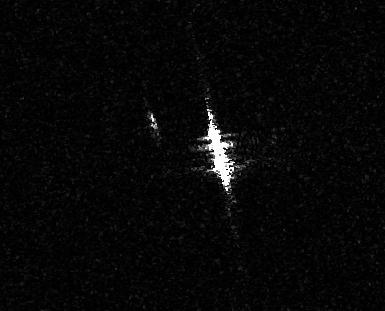ship: (204, 117, 236, 194)
